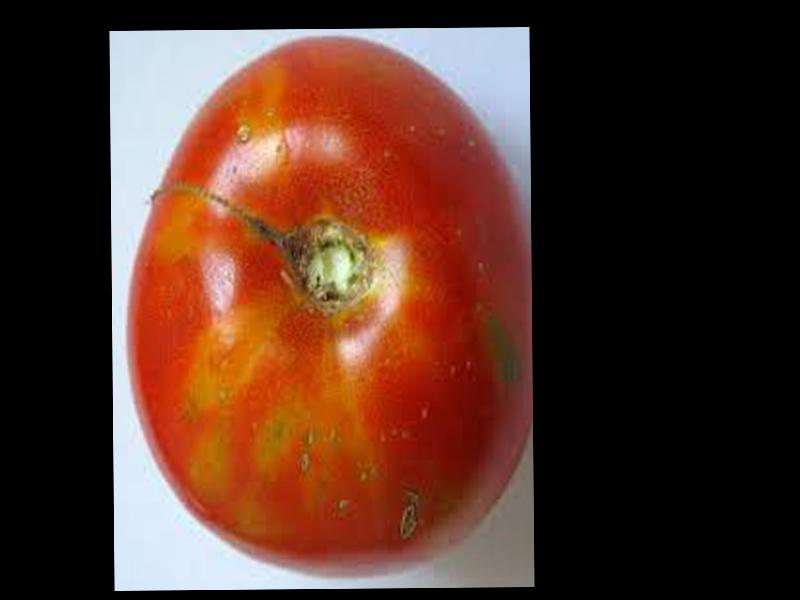Tomato: (125, 32, 532, 576)
